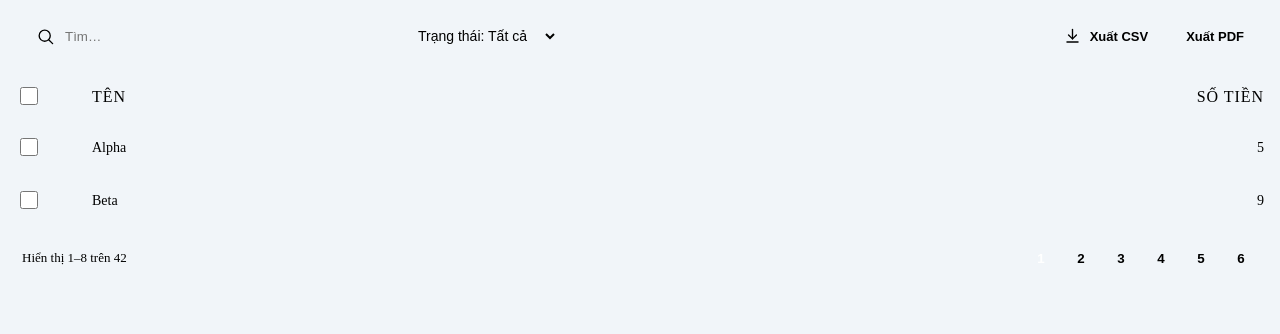
Test: DataTable › filters, selects rows and runs a bulk action
Select "A" in the dropdown named "Trạng thái" at (479, 36), box [400, 16, 558, 56]
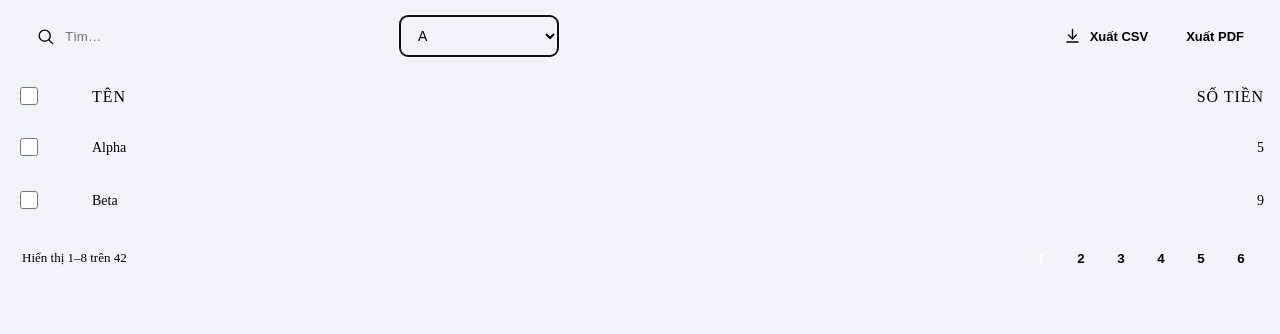
Click the checkbox named "select" next to "Alpha" at (29, 147), box [20, 138, 38, 156]
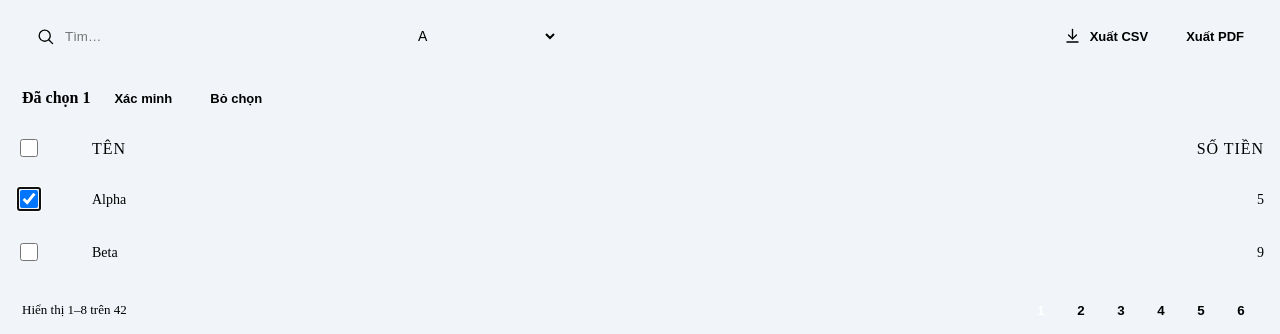
Click the checkbox named "select" next to "Beta" at (29, 252), box [20, 243, 38, 261]
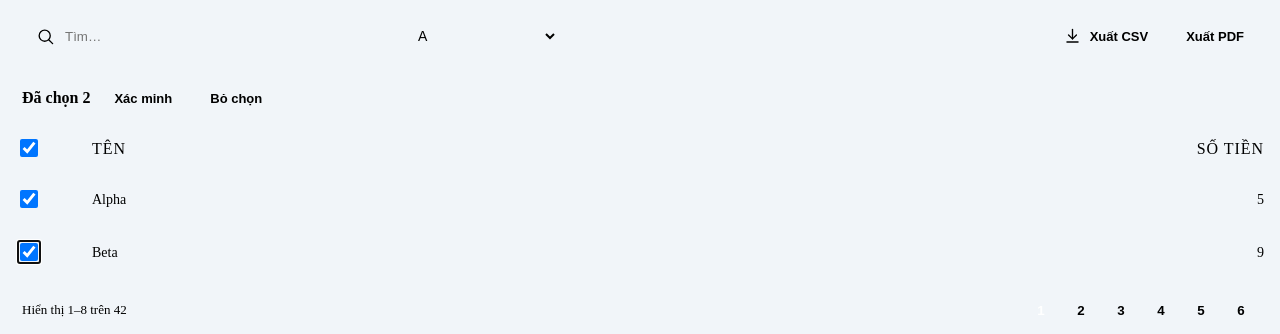
Check: the text "Đã chọn 2 Xác minh Bỏ chọn" is shown, box [22, 82, 276, 114]
Click the button "Xác minh" at (143, 98), box [100, 82, 186, 114]
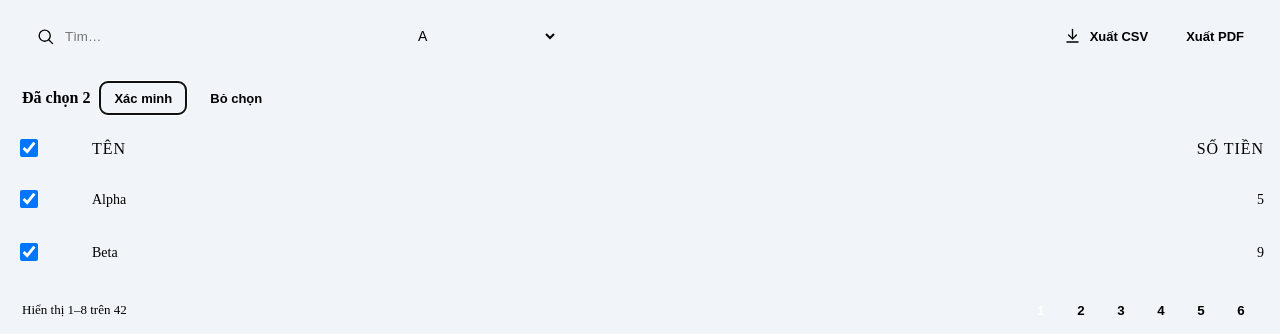
Click the button "Bỏ chọn" at (236, 98), box [196, 82, 276, 114]
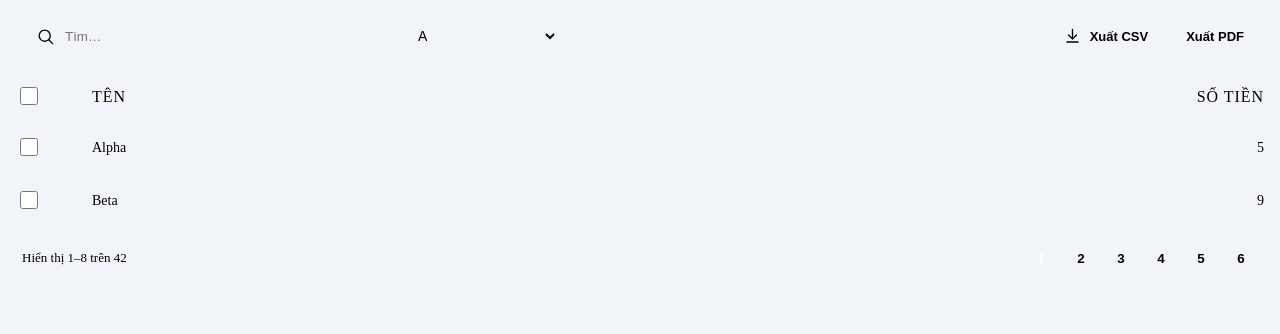
Check: the text "Đã chọn" is gone
